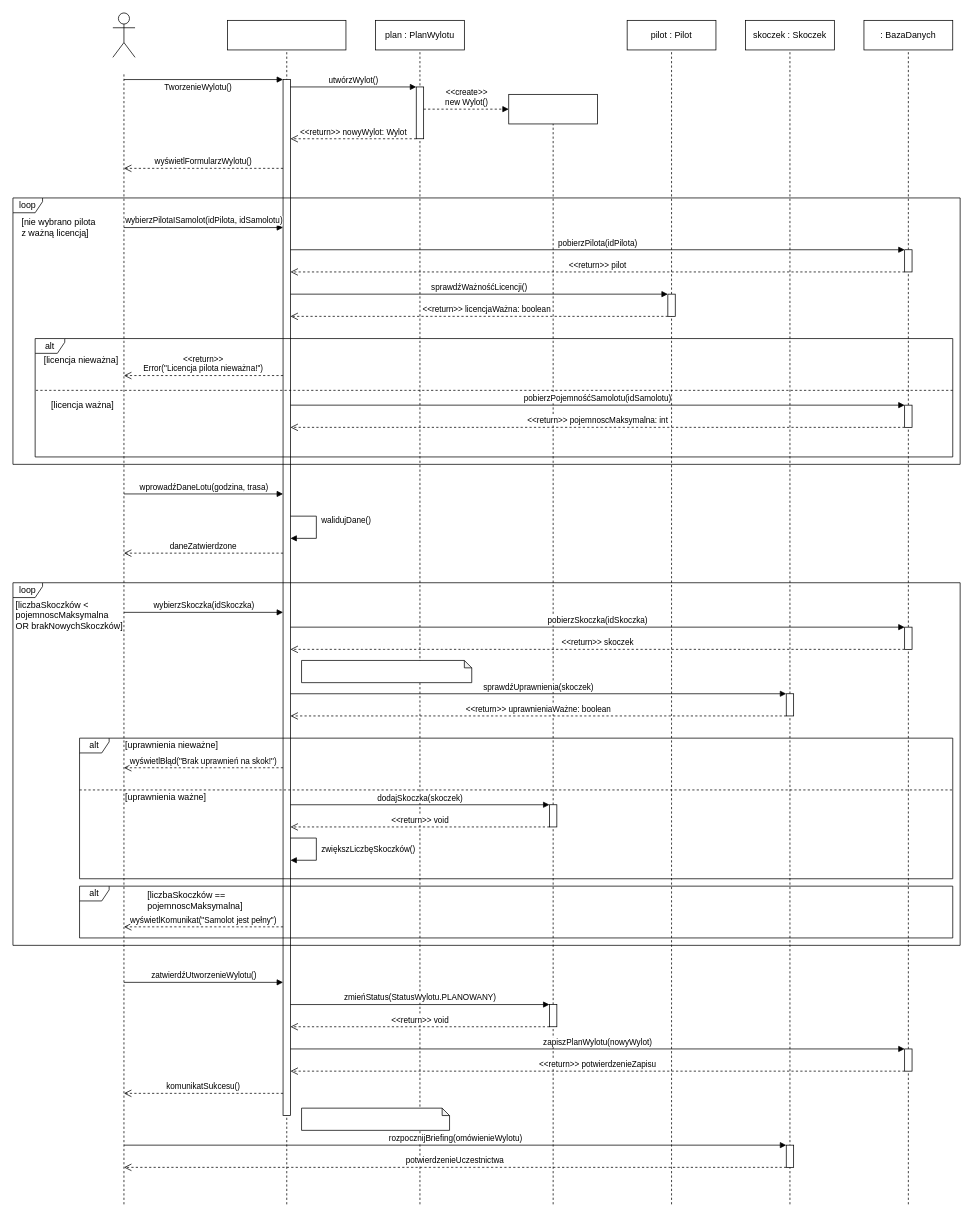
The diagram is 973 pixels wide and 1218 high, and some of its shapes have lost their labels. The shapes that lost their labels are listed below. From the top down, each one's centre as x and y in pixels, then its label:
At [123,34]: "Kierownik skoków".
At [286,35]: ": System".
At [553,109]: "nowyWylot : Wylot".
At [386,671]: "<<include>> Kontrola uprawnień skoczków".
At [375,1118]: "<<include>> Prowadzenie briefingu".
